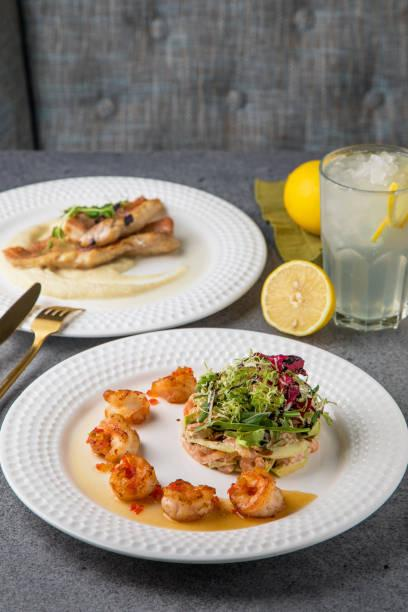Braised Crucian Carp: (5, 327, 405, 563), (2, 175, 267, 336)
